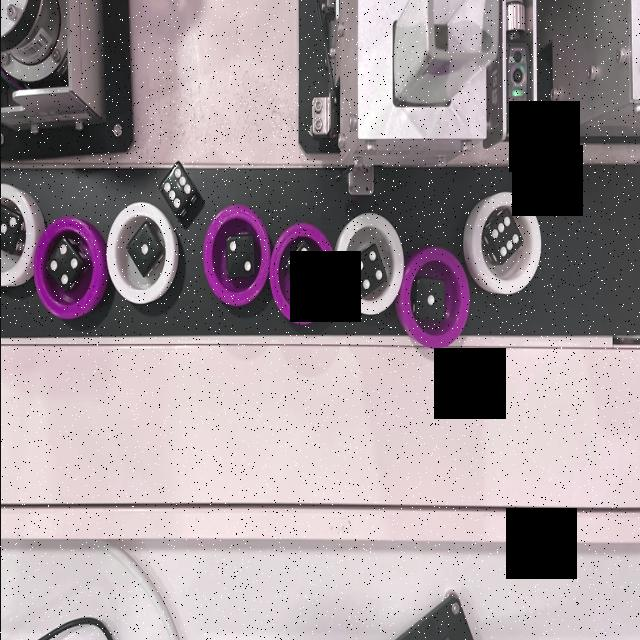DICE1: (128, 225, 154, 264), (416, 282, 438, 316)
DICE2: (224, 232, 252, 274)
DICE3: (0, 208, 16, 242)
DICE4: (46, 238, 74, 282), (352, 245, 380, 287)
DICE5: (288, 245, 316, 286)
DICE6: (162, 161, 192, 211), (488, 211, 516, 252)
RedChip: (32, 211, 99, 316), (399, 244, 466, 344), (268, 218, 332, 318), (202, 208, 266, 302)
WhiteChip: (468, 190, 538, 290), (105, 206, 173, 302), (334, 208, 398, 309), (0, 181, 30, 285)
